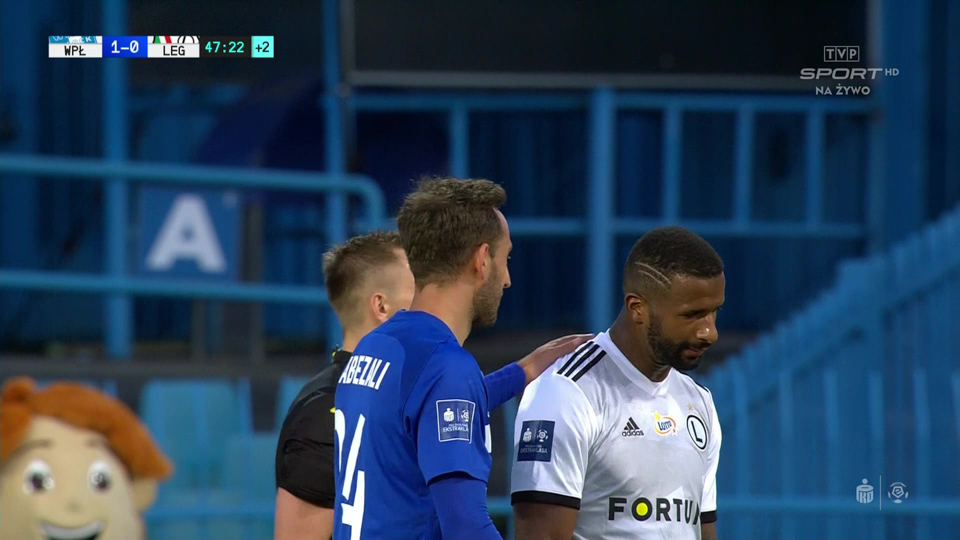Adidas: (618, 416, 648, 438)
